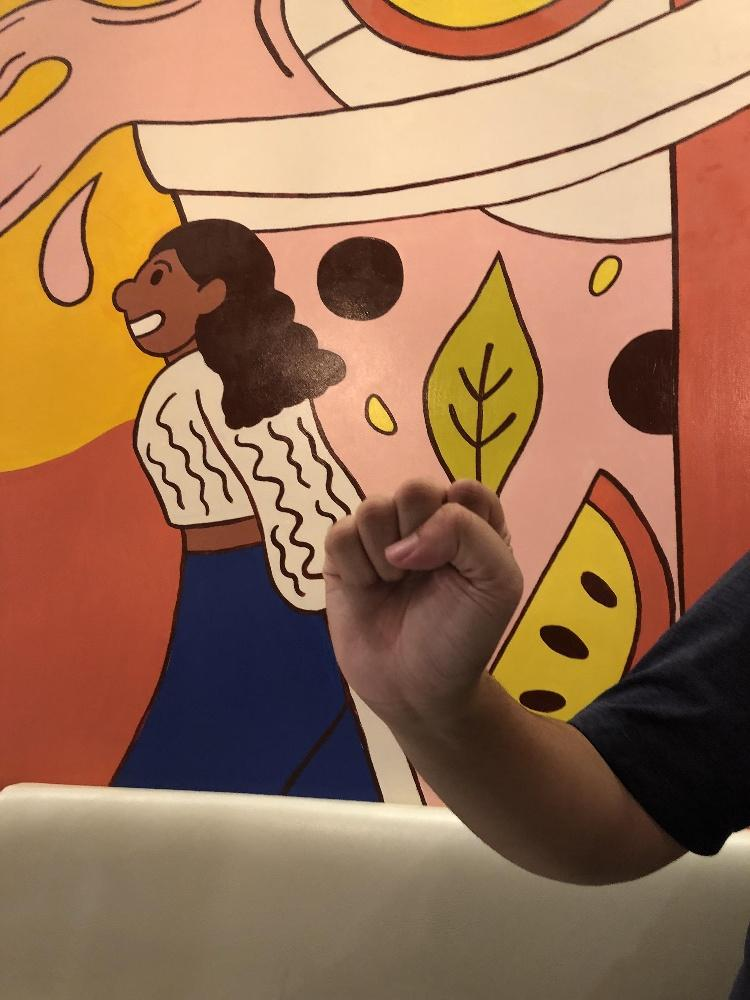s: (320, 474, 525, 702)
